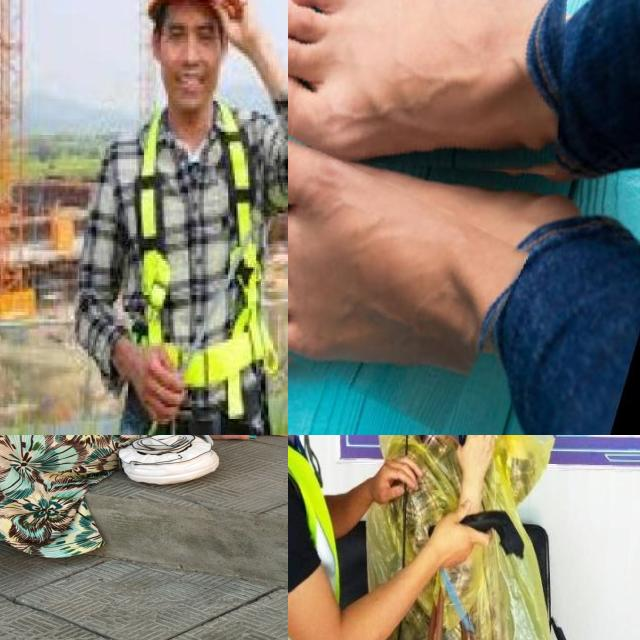Barefoots: (288, 143, 580, 369), (288, 0, 578, 169)
Harness: (110, 100, 286, 418)
